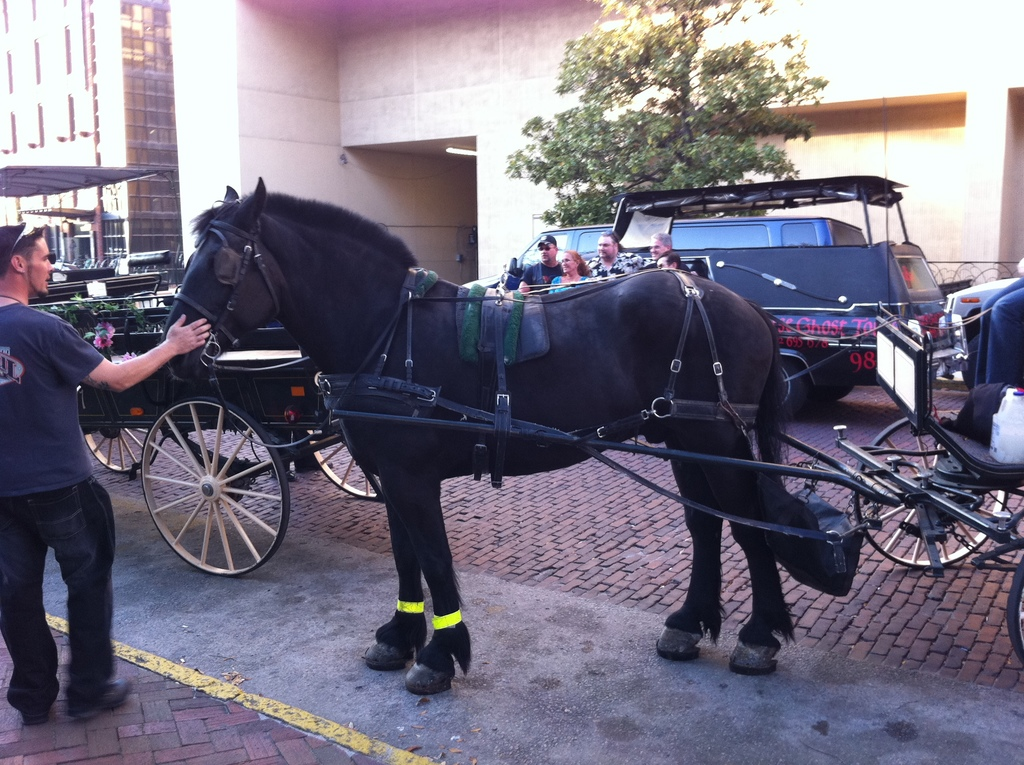horse: (155, 176, 796, 695)
